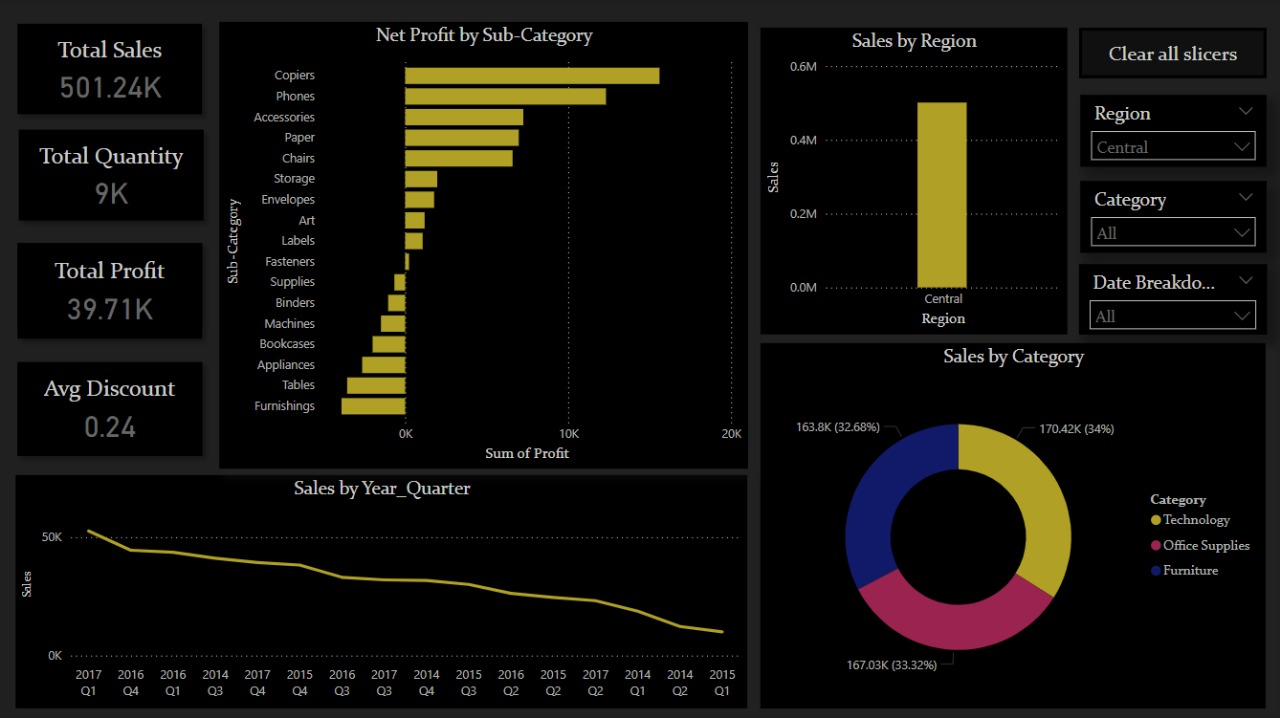

What the dashboard file says about the page in this screenshot:
{"tool":"powerbi","page":{"name":"Supermarket Sales Dashboard","canvas":[1280,720],"ordinal":0},"visuals":[{"type":"cardVisual","fields":{"Data":["Sum(Superstore Sales.Sales)"]},"box":[0,6.5,219.6,125.2],"z":0},{"type":"cardVisual","fields":{"Data":["Sum(Superstore Sales.Quantity)"]},"box":[1.6,113.9,219.6,125.2],"z":1000},{"type":"lineChart","title":"Sales by Year_Quarter","fields":{"Y":["Sum(Superstore_Sales.Sales)"],"Category":["Superstore_Sales.Year_Quarter"]},"box":[16.3,475,730.3,232.6],"z":2000},{"type":"clusteredColumnChart","fields":{"Category":["Superstore_Sales.Region"],"Y":["Sum(Superstore_Sales.Sales)"]},"box":[759.6,29.3,305.8,305.8],"z":3000},{"type":"donutChart","title":"Sales by Category","fields":{"Y":["Sum(Superstore_Sales.Sales)"],"Category":["Superstore_Sales.Category"]},"box":[759.6,343.2,504.2,364.3],"z":4000},{"type":"slicer","fields":{"Values":["Superstore_Sales.Region"]},"box":[1078.4,96,185.4,71.6],"z":5000},{"type":"slicer","fields":{"Values":["Superstore_Sales.Category"]},"box":[1078.4,182.2,185.4,71.6],"z":6000},{"type":"clusteredBarChart","title":"Net Profit by Sub-Category","fields":{"Category":["Superstore_Sales.Sub-Category"],"Y":["Sum(Superstore_Sales.Profit)"]},"box":[219.6,22.8,527,445.7],"z":7000},{"type":"cardVisual","fields":{"Data":["Sum(Superstore_Sales.Profit)"]},"box":[0,226.1,219.6,130.1],"z":8000},{"type":"cardVisual","fields":{"Data":["Superstore_Sales.Avg Discount"]},"box":[0,344.8,219.6,128.5],"z":9000},{"type":"slicer","fields":{"Values":["Superstore_Sales.Order Date.Variation.Date Hierarchy.Year","Superstore_Sales.Order Date.Variation.Date Hierarchy.Quarter","Superstore_Sales.Order Date.Variation.Date Hierarchy.Month","Superstore_Sales.Order Date.Variation.Date Hierarchy.Day"]},"box":[1076.8,265.1,187.1,69.9],"z":10000},{"type":"actionButton","box":[1076.8,29.3,187.1,50.4],"z":13000}]}

Visuals, with their boxes in screenshot pixels (x1, y1, x2, y2), scaled from the page's 1280x720 canvas onto the 1280x718 screenshot:
cardVisual - Sum(Superstore Sales.Sales): detection(0, 6, 220, 131)
cardVisual - Sum(Superstore Sales.Quantity): detection(2, 114, 221, 238)
"Sales by Year_Quarter" lineChart: detection(16, 474, 747, 706)
clusteredColumnChart - Superstore_Sales.Region x Sum(Superstore_Sales.Sales): detection(760, 29, 1065, 334)
"Sales by Category" donutChart: detection(760, 342, 1264, 706)
slicer - Superstore_Sales.Region: detection(1078, 96, 1264, 167)
slicer - Superstore_Sales.Category: detection(1078, 182, 1264, 253)
"Net Profit by Sub-Category" clusteredBarChart: detection(220, 23, 747, 467)
cardVisual - Sum(Superstore_Sales.Profit): detection(0, 225, 220, 355)
cardVisual - Superstore_Sales.Avg Discount: detection(0, 344, 220, 472)
slicer - Superstore_Sales.Order Date.Variation.Date Hierarchy.Year x Superstore_Sales.Order Date.Variation.Date Hierarchy.Quarter: detection(1077, 264, 1264, 334)
actionButton: detection(1077, 29, 1264, 79)
